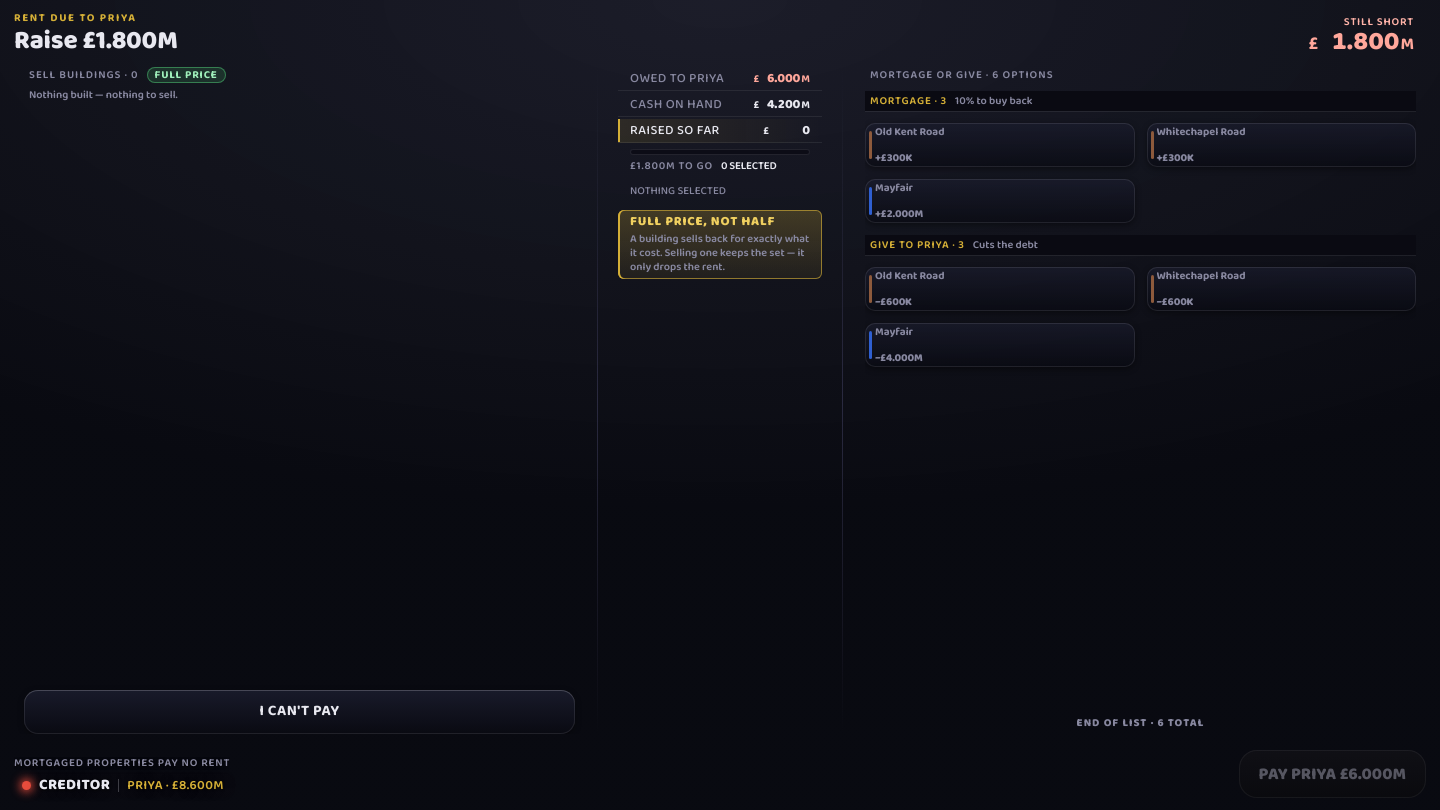
BankruptcyPanel › I CAN'T PAY is armed and ~a column away from the primary
Click the button "I can't pay": [300, 712] box [24,690,575,734]
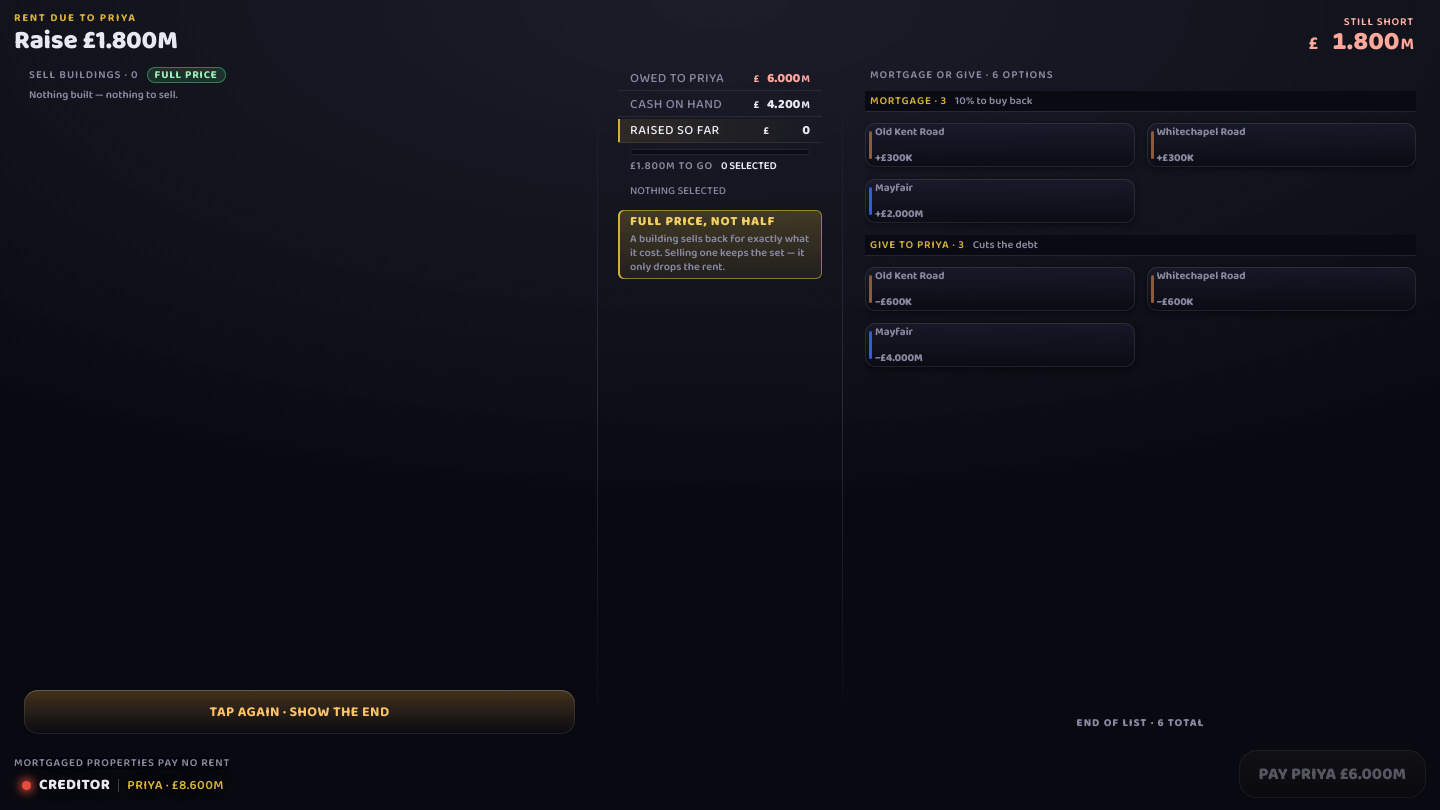
Expected: the text "Settling up" is not shown
Now the button with aria-label "I can't pay" has class "is-armed"
Click the button with aria-label "I can't pay": [300, 712] box [24,690,575,734]
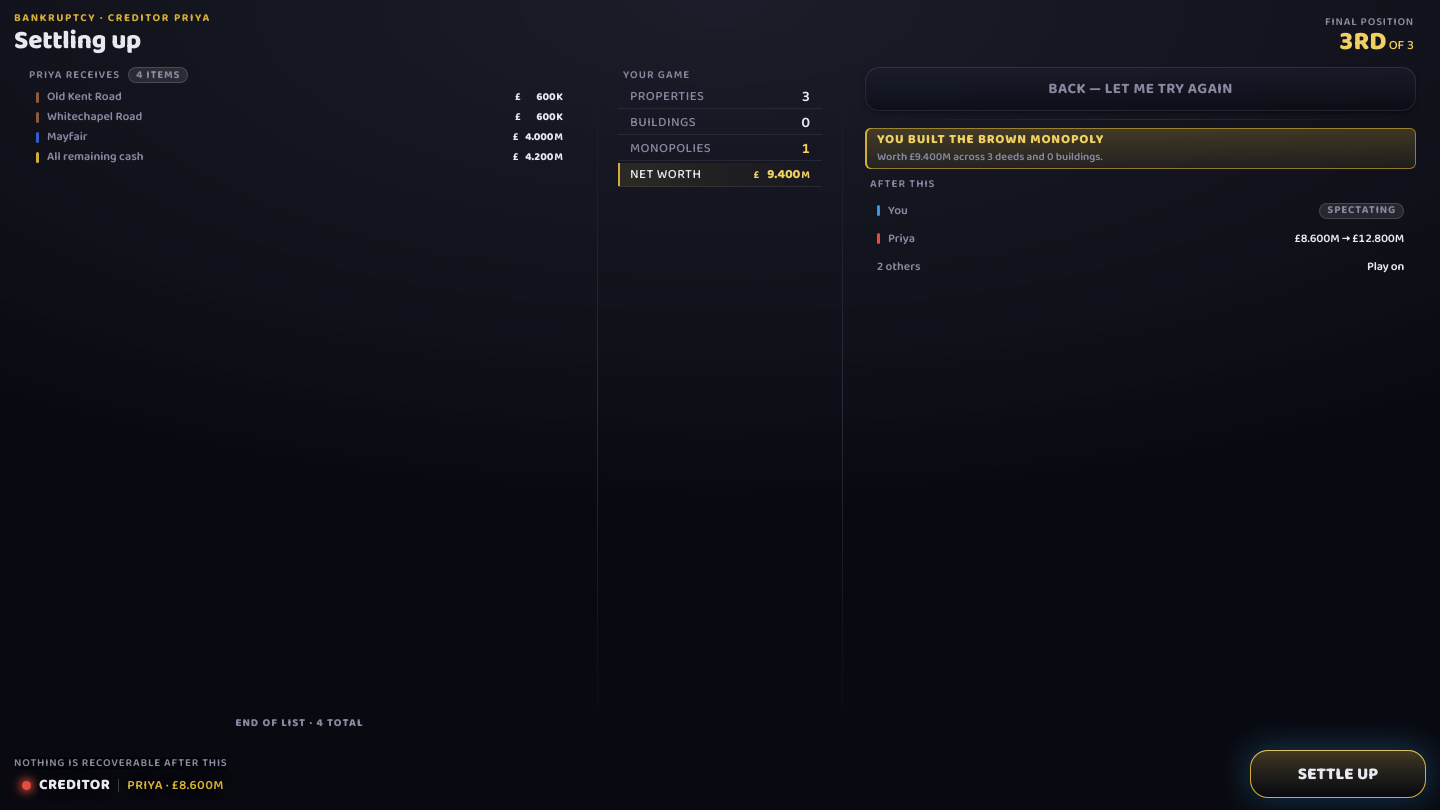
Now the text "Settling up" is shown, box [14,20,141,62]
